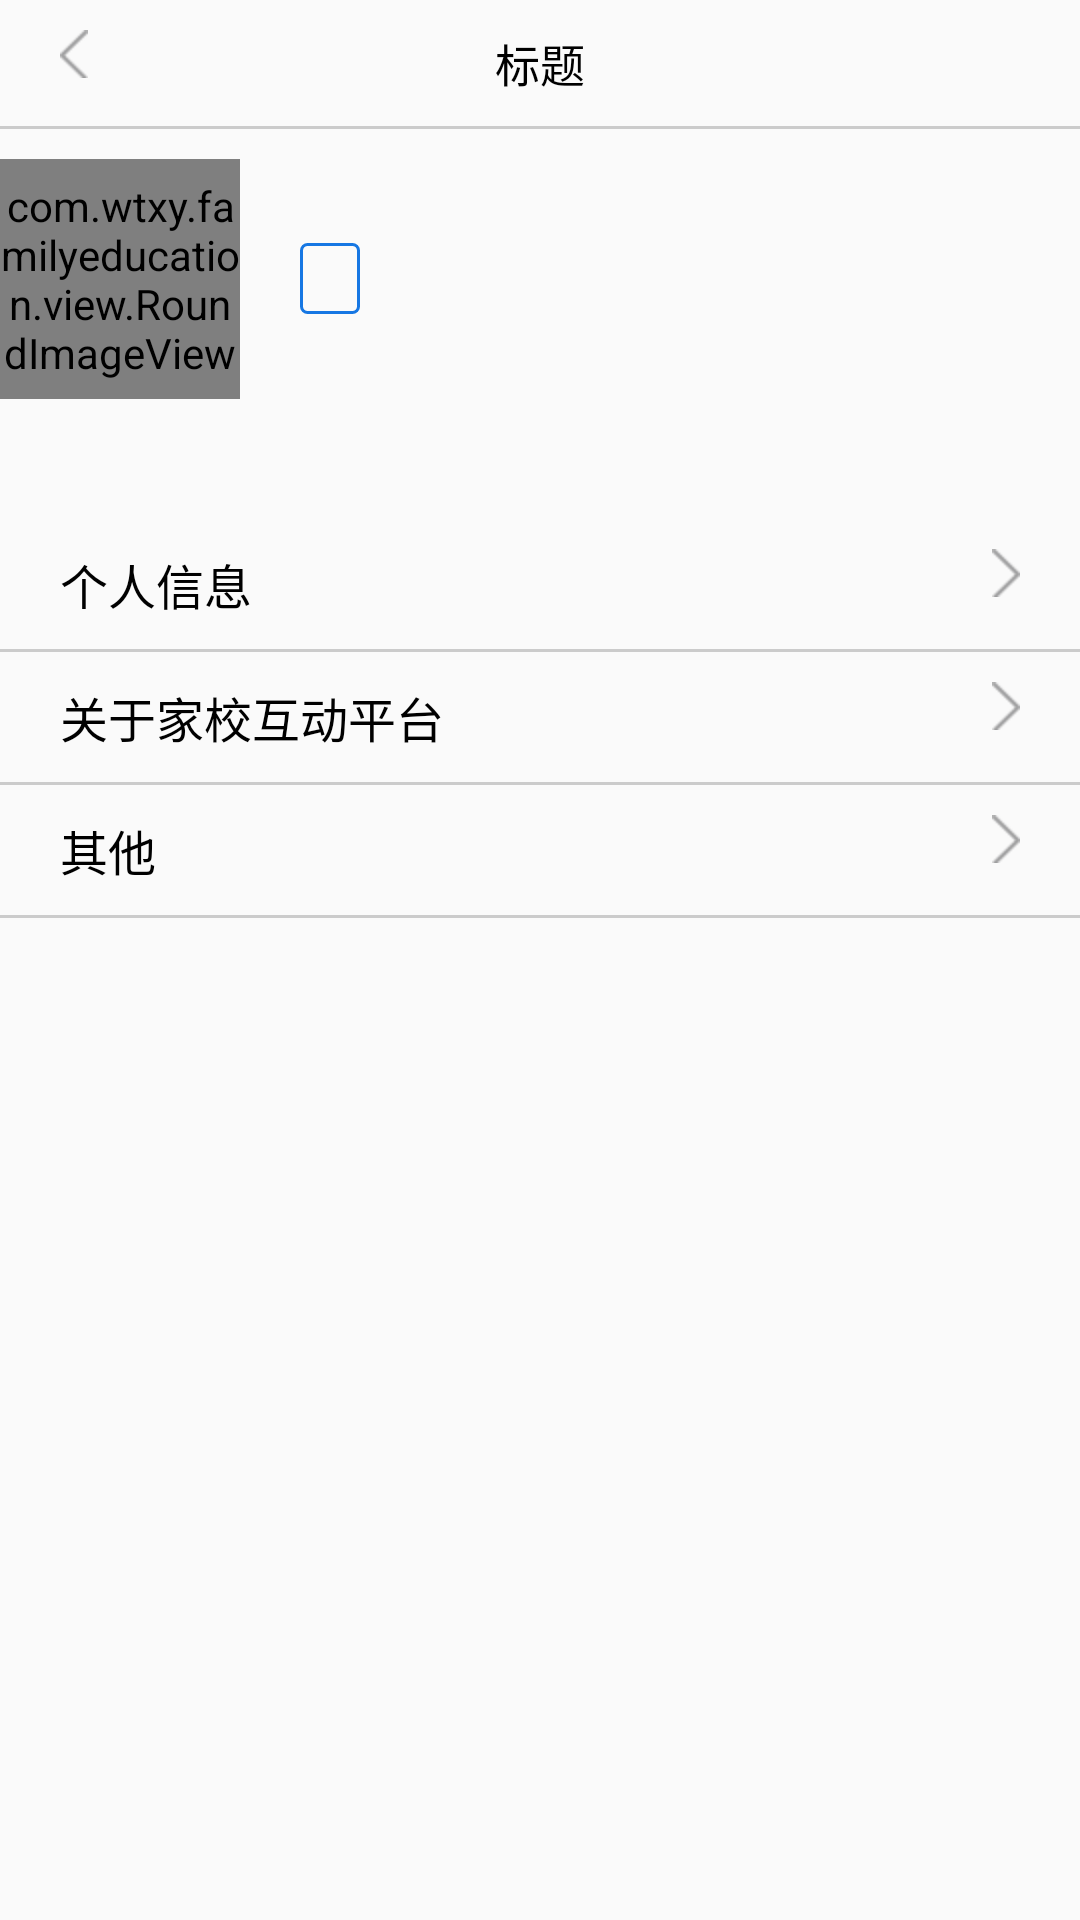

Where to tap for icons on this 1080x1920 app screen, as (x=x, y=y):
back: (x=74, y=54)
next: (x=1006, y=573), (x=1006, y=706), (x=1006, y=839)
